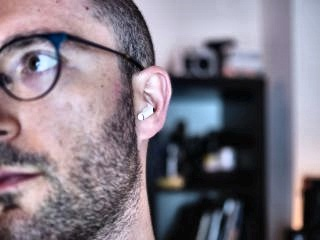earphone: (131, 66, 173, 139)
